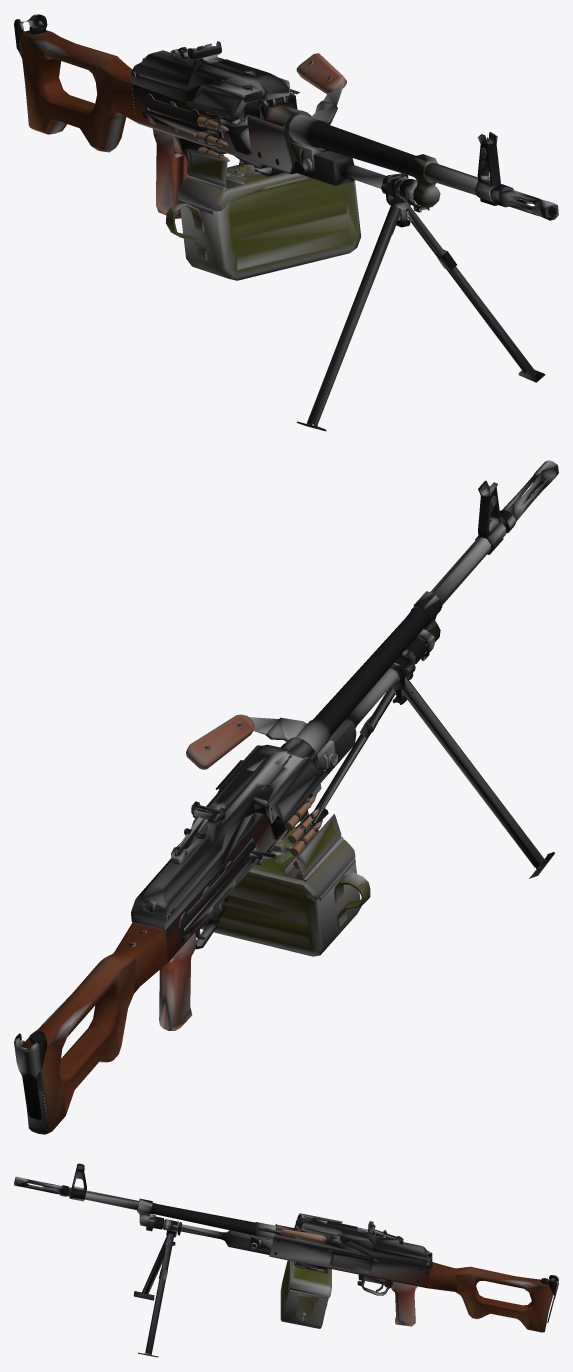
Rendered from pkm.glb.
The picture shows the model from 3 angles, top to bottom: view 1: azimuth 30°, elevation 25°; view 2: azimuth 150°, elevation 25°; view 3: azimuth 270°, elevation 25°; orthographic projection. The views are drawn at different scales.
Visible parts, largest first — view 1: gun_pkm; view 2: gun_pkm; view 3: gun_pkm.
Part boxes in pixels (<box>): gun_pkm: <box>14,14,558,431</box>; gun_pkm: <box>14,460,558,1134</box>; gun_pkm: <box>14,1163,558,1357</box>.
Size of the model in its own units: 0.2576 by 0.3375 by 1.
